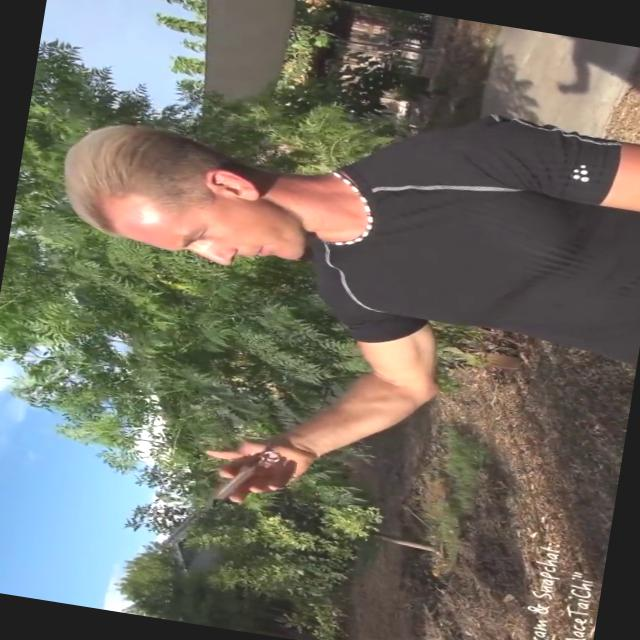knife: (144, 431, 292, 562)
